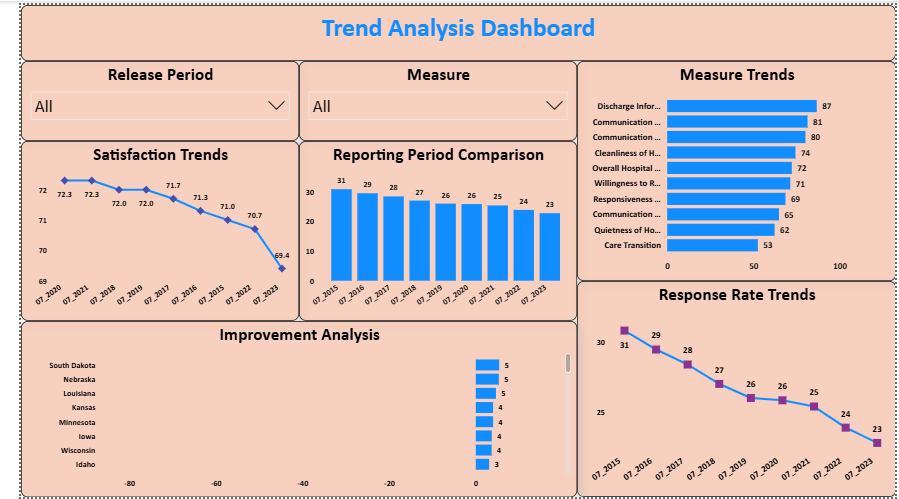

The page's visual inventory and layout, read from the dashboard file:
{"tool":"powerbi","page":{"name":"Report 6","canvas":[1280,720],"ordinal":6},"visuals":[{"type":"textbox","box":[0,0,1280.5,82],"z":0},{"type":"slicer","title":"Release Period","fields":{"Values":["reports.Release Period"]},"box":[0,82,406.8,117.1],"z":1000},{"type":"slicer","title":"Measure","fields":{"Values":["measures (2).Measure"]},"box":[406.8,82,406.8,117.1],"z":2000},{"type":"lineChart","title":"Satisfaction Trends","fields":{"Category":["reports.Release Period"],"Y":["national_results.Average Top-box %"]},"box":[0,199,406.8,263.4],"z":3000},{"type":"clusteredColumnChart","title":"Reporting Period Comparison","fields":{"Category":["reports.Release Period"],"Y":["responses.Average Response Rate"]},"box":[406.8,199,406.8,263.4],"z":4000},{"type":"clusteredBarChart","title":"Measure Trends","fields":{"Category":["measures (2).Measure"],"Y":["national_results.Average Top-box %"]},"box":[813.7,82,466.8,322],"z":5000},{"type":"lineChart","title":"Response Rate Trends","fields":{"Category":["reports.Release Period"],"Y":["responses.Average Response Rate"]},"box":[813.7,403.9,466.8,316.1],"z":6000},{"type":"clusteredBarChart","title":"Improvement Analysis","fields":{"Category":["states.State Name"],"Y":["state_results.Gap Analysis"]},"box":[0,462.4,813.7,257.6],"z":7000},{"type":"actionButton","box":[0,0,163.9,82],"z":8000},{"type":"actionButton","box":[1128.3,0,152.2,82],"z":9000}]}

Visuals, with their boxes in screenshot pixels (x1, y1, x2, y2), scaled from the page's 1280x720 canvas onto the 899x499 screenshot:
textbox: (x1=0, y1=0, x2=898, y2=57)
"Release Period" slicer: (x1=0, y1=57, x2=286, y2=138)
"Measure" slicer: (x1=286, y1=57, x2=571, y2=138)
"Satisfaction Trends" lineChart: (x1=0, y1=138, x2=286, y2=320)
"Reporting Period Comparison" clusteredColumnChart: (x1=286, y1=138, x2=571, y2=320)
"Measure Trends" clusteredBarChart: (x1=571, y1=57, x2=898, y2=280)
"Response Rate Trends" lineChart: (x1=571, y1=280, x2=898, y2=498)
"Improvement Analysis" clusteredBarChart: (x1=0, y1=320, x2=571, y2=498)
actionButton: (x1=0, y1=0, x2=115, y2=57)
actionButton: (x1=792, y1=0, x2=898, y2=57)
